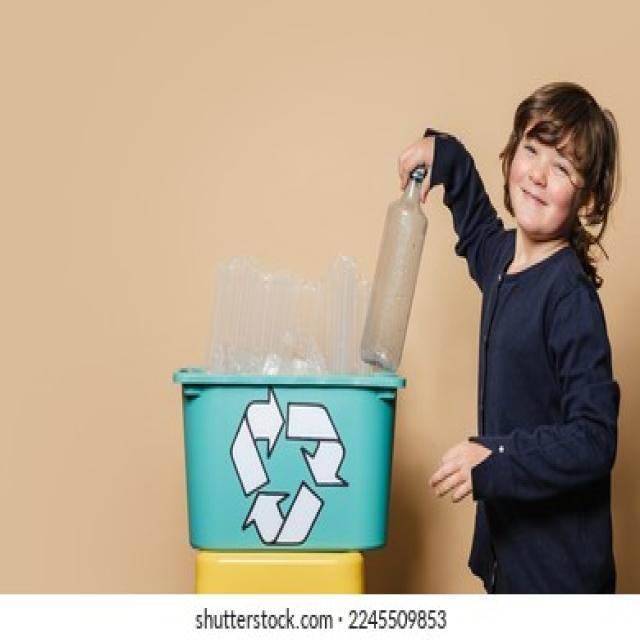plastic: (210, 256, 363, 373), (359, 164, 425, 380)
